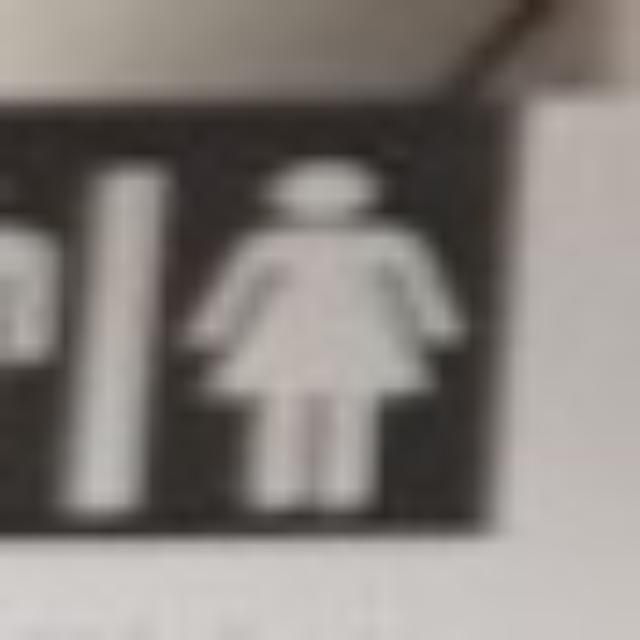wc nu: (189, 160, 465, 509)
